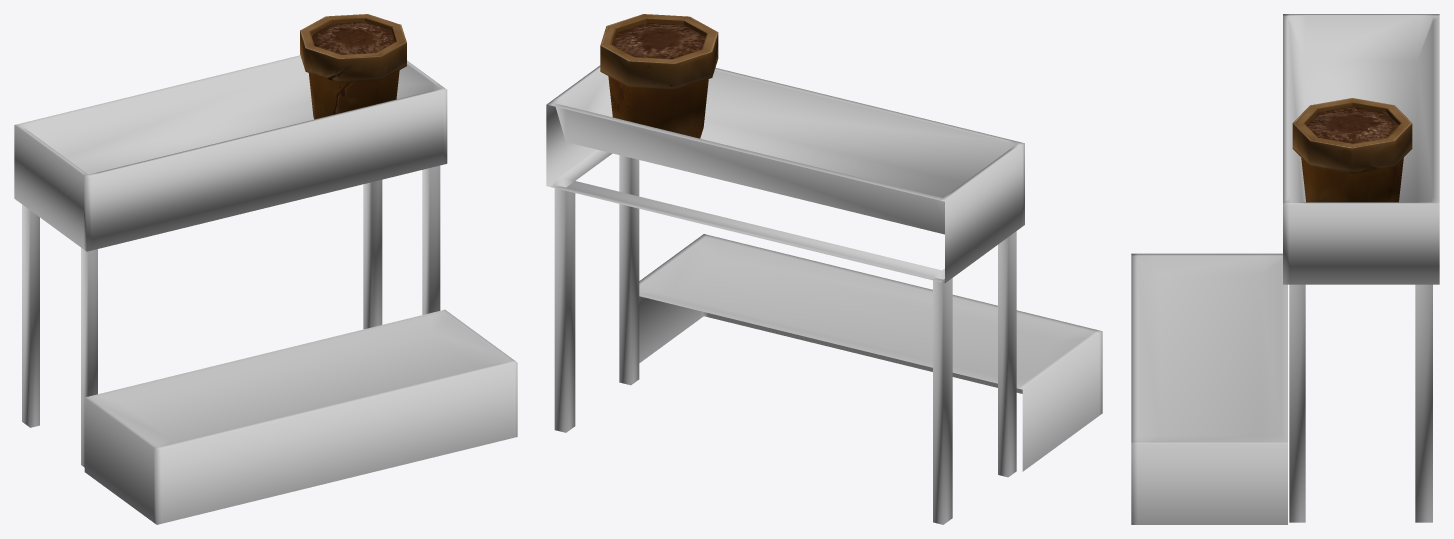
Rendered from box01_modern.FBX.
The picture shows the model from 3 angles, left to right: view 1: azimuth 30°, elevation 25°; view 2: azimuth 150°, elevation 25°; view 3: azimuth 270°, elevation 25°; orthographic projection. The views are drawn at different scales.
Visible parts, largest first — view 1: box01_modern001, plan; view 2: box01_modern001, plan; view 3: box01_modern001, plan.
Boxes of the visible parts, box(x1,y1,x2,y2) form: box01_modern001: box(14, 55, 517, 524); plan: box(300, 14, 406, 119); box01_modern001: box(546, 65, 1102, 524); plan: box(600, 14, 718, 138); box01_modern001: box(1131, 14, 1439, 524); plan: box(1292, 98, 1412, 202).
Bounding box in the file's own units: 3.15 × 2.85 × 2.15.
